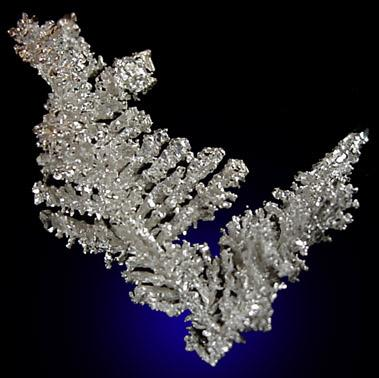silver: (9, 14, 369, 366)
